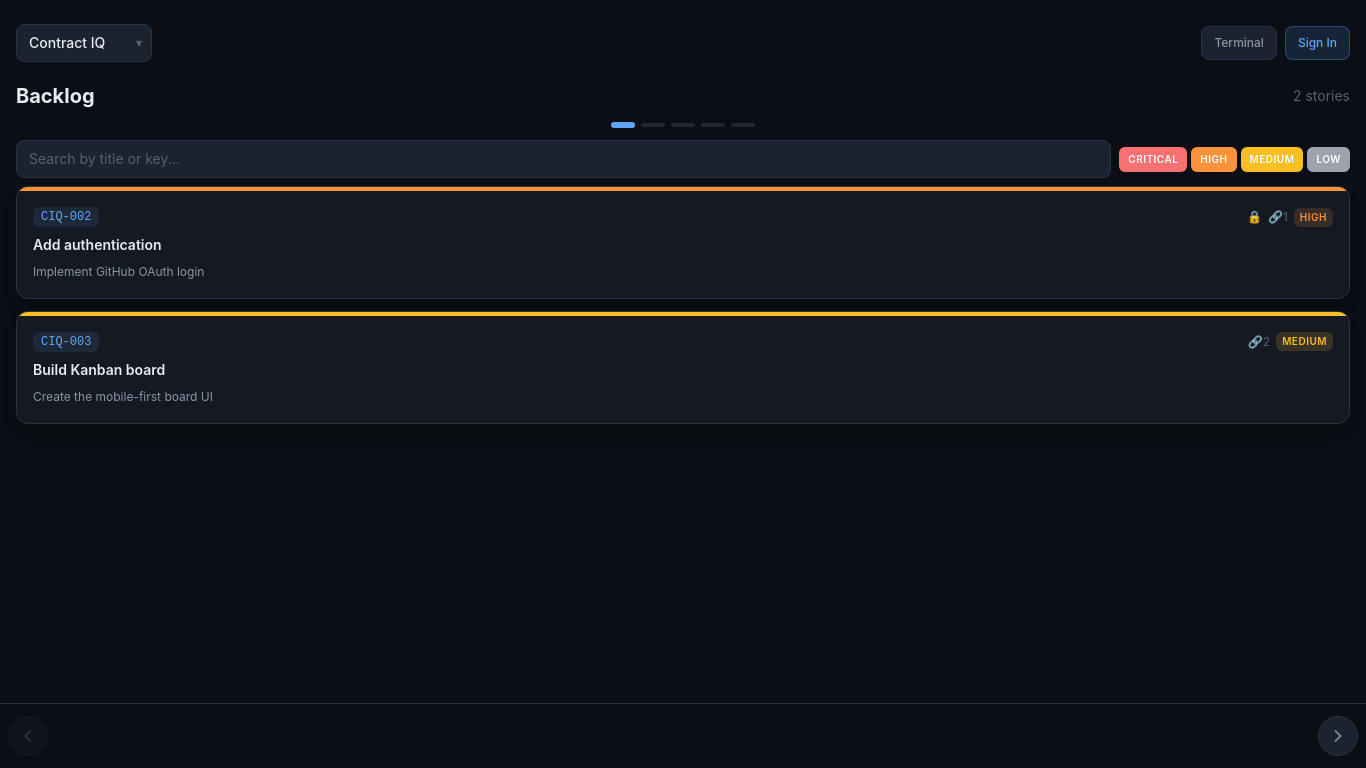
Scenario: BLF-008: Story detail overlay slides in from right › close button dismisses the overlay
Click the text "CIQ-002" at (66, 217), box left=33, top=207, right=99, bottom=227
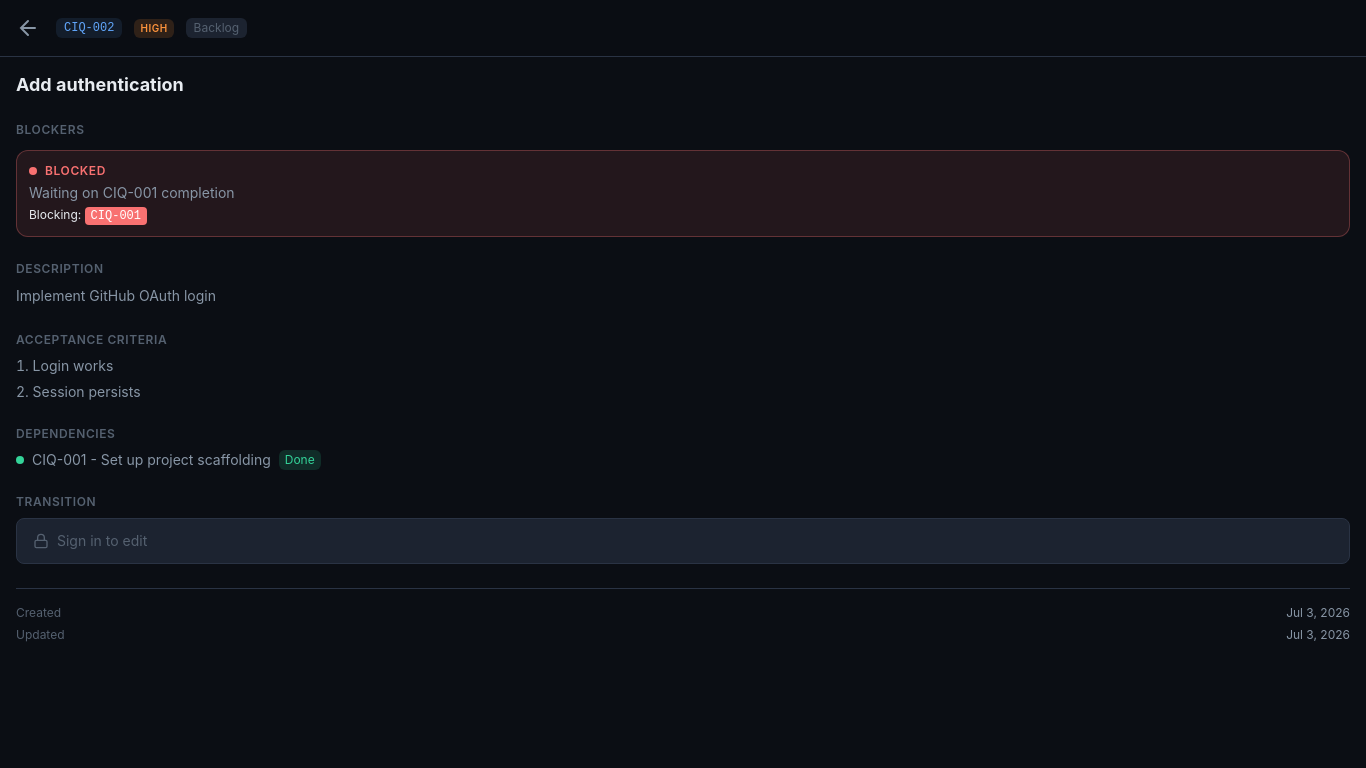
Check: the button "Sign in to edit" is shown, box left=16, top=518, right=1350, bottom=564
Click the button named "Close detail" at (28, 28), box left=12, top=12, right=44, bottom=44
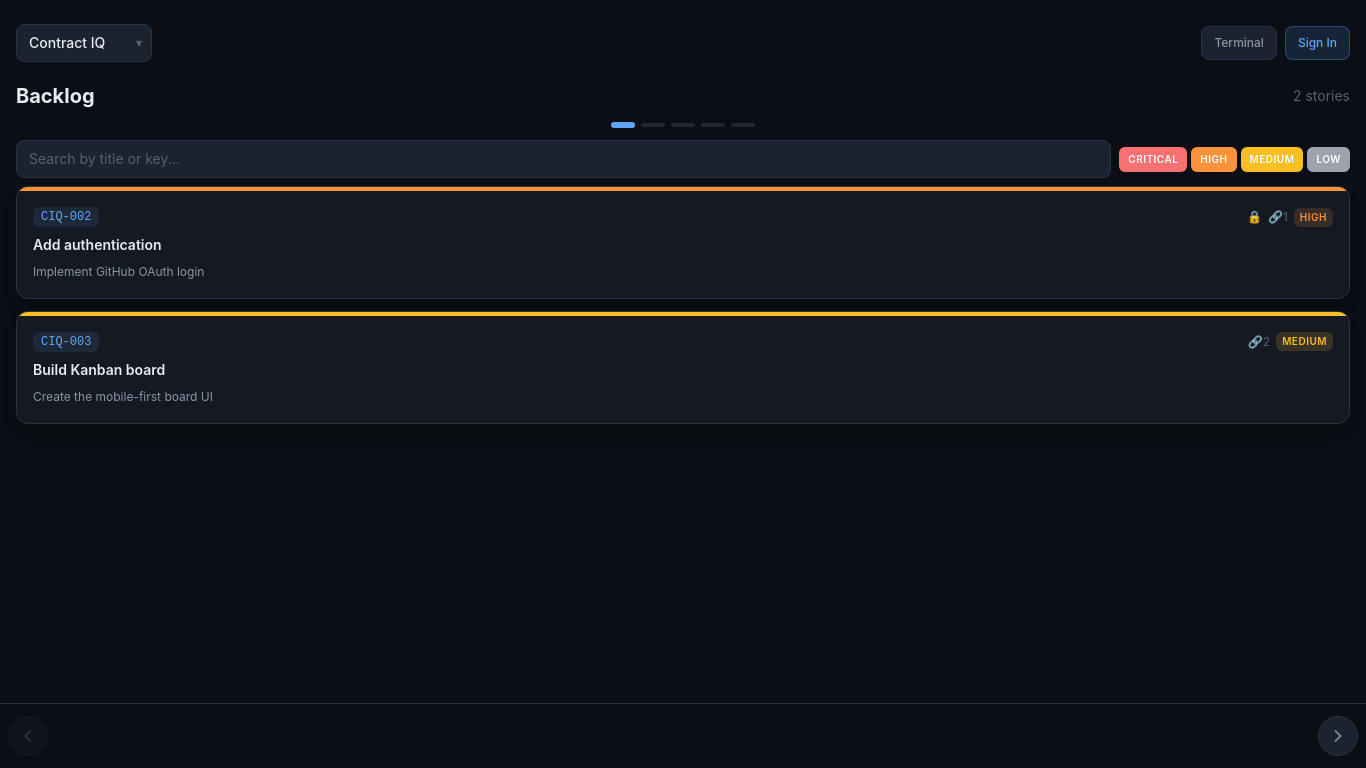
Check: the button "Sign in to edit" is gone
